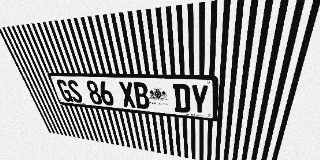6: (97, 81, 115, 106)
8: (85, 80, 103, 105)
B: (132, 82, 150, 109)
D: (172, 83, 190, 113)
G: (56, 79, 74, 102)
S: (66, 80, 84, 103)
X: (118, 82, 136, 108)
Y: (190, 84, 209, 115)
